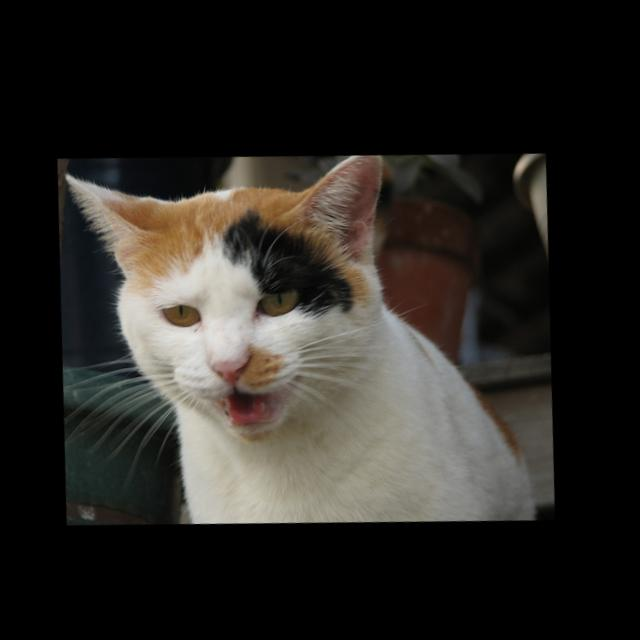animals: (60, 136, 391, 394)
